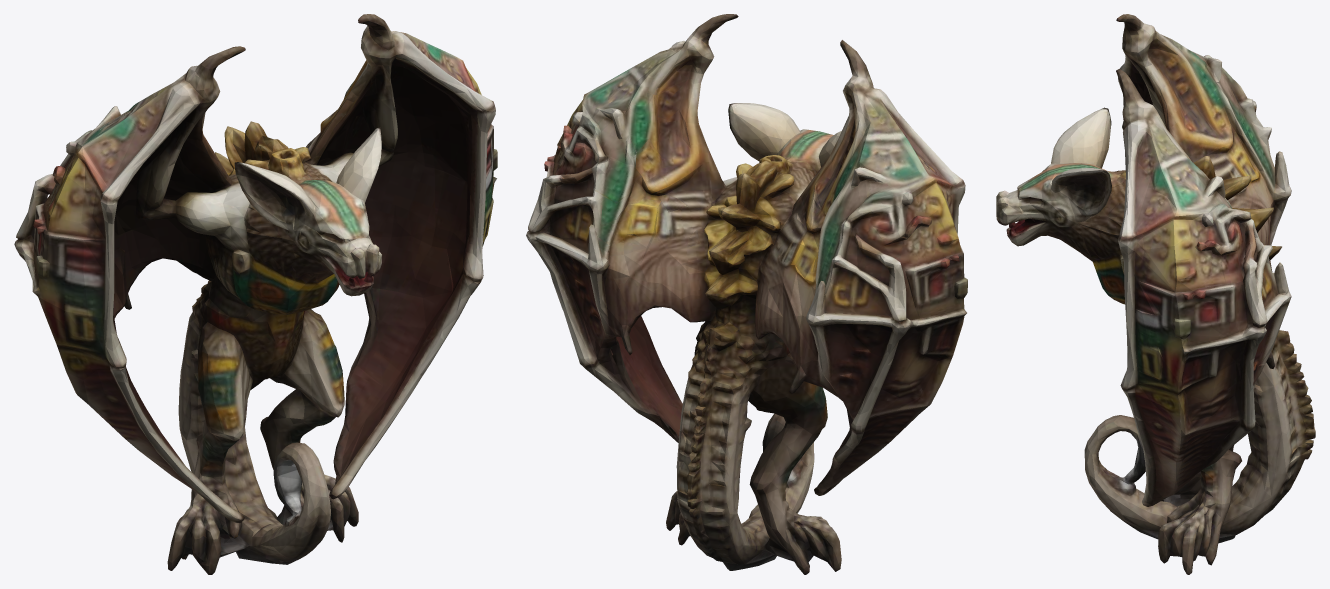
The model's file is mazeBat.glb.
3 renders of one model, left to right at view 1: azimuth 30°, elevation 25°; view 2: azimuth 150°, elevation 25°; view 3: azimuth 270°, elevation 25°, orthographic. The views are drawn at different scales.
Visible parts, largest first — view 1: world; view 2: world; view 3: world.
Part boxes in pixels (bbox=[...]): world: bbox=[14, 14, 497, 574]; world: bbox=[526, 14, 967, 574]; world: bbox=[996, 14, 1315, 574].
Bounding box in the file's own units: 0.8808 × 0.9979 × 0.582.
1 material, 1 textured.
